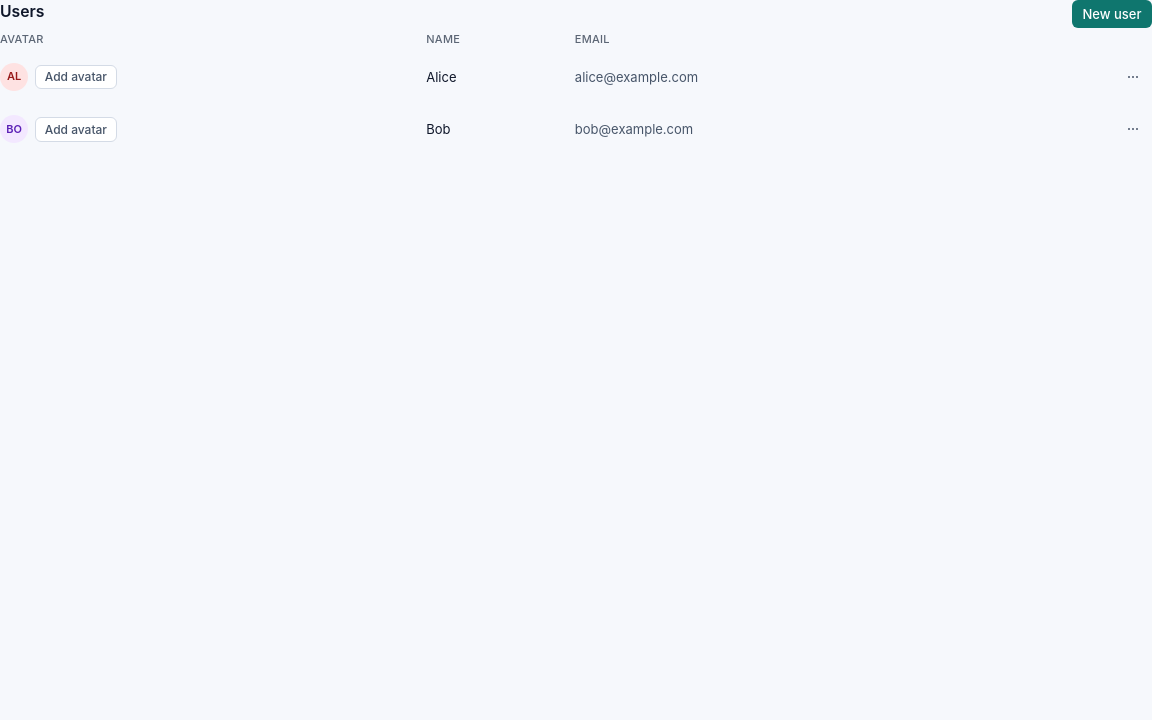
Test: UsersPanel Edit dialog (PRU-47) › renders the server's field:email 400 as the anchored Callout (B2 bug 1)
Click the button named "Actions for user \"Alice\"" at (1133, 77), box [1114,58,1151,96]
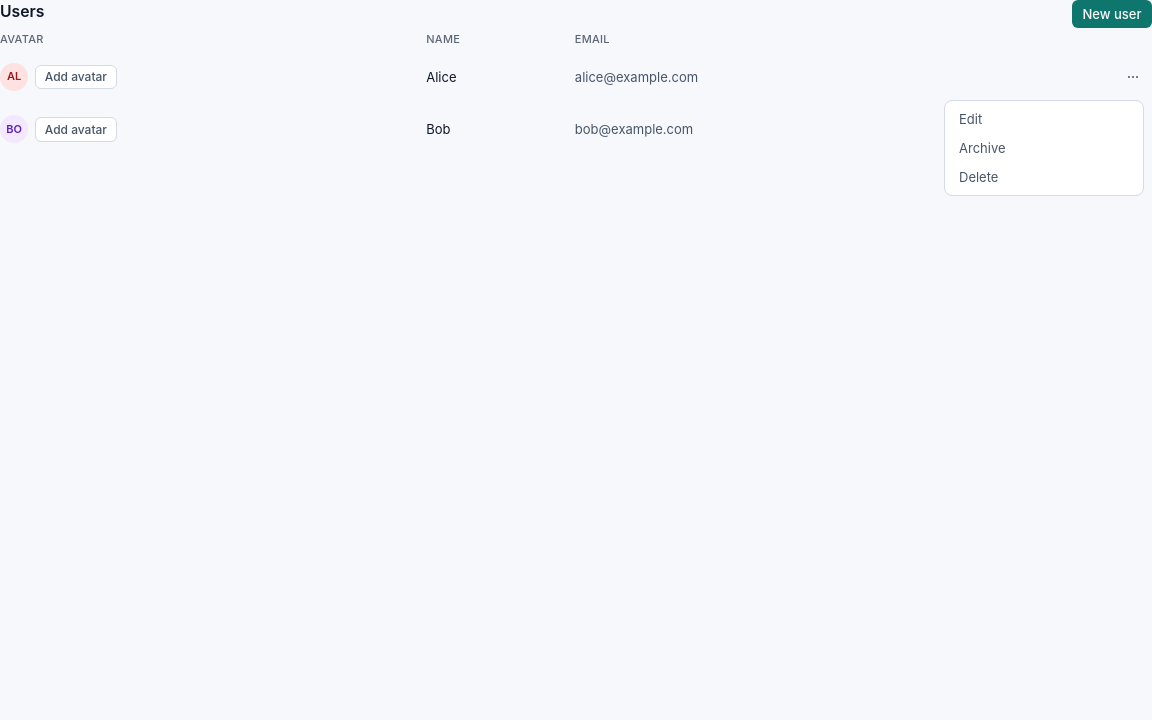
Click the menu item with test id "user-edit-u-alice" at (1044, 119), box [948,105,1140,134]
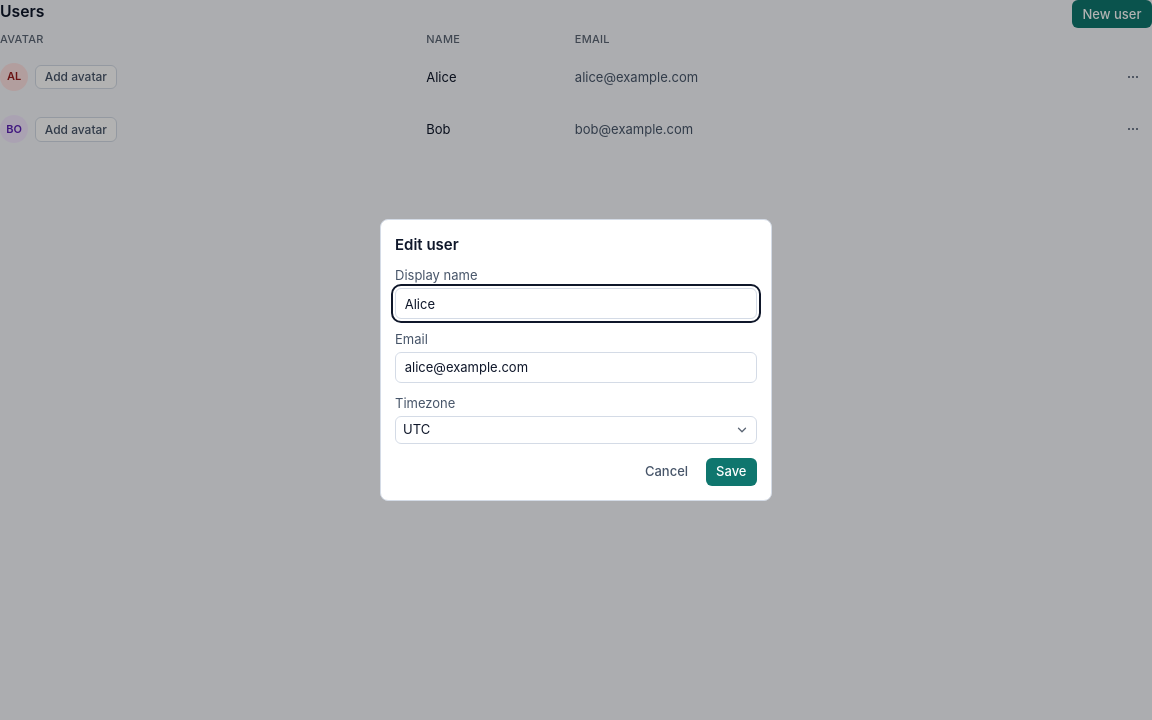
Check: the element with test id "user-edit-dialog-u-alice" is shown, box [395,266,757,486]
Replace the text in the field with test id "user-edit-email-u-alice" with "server@rejects.example" at (576, 368), box [395,352,757,383]
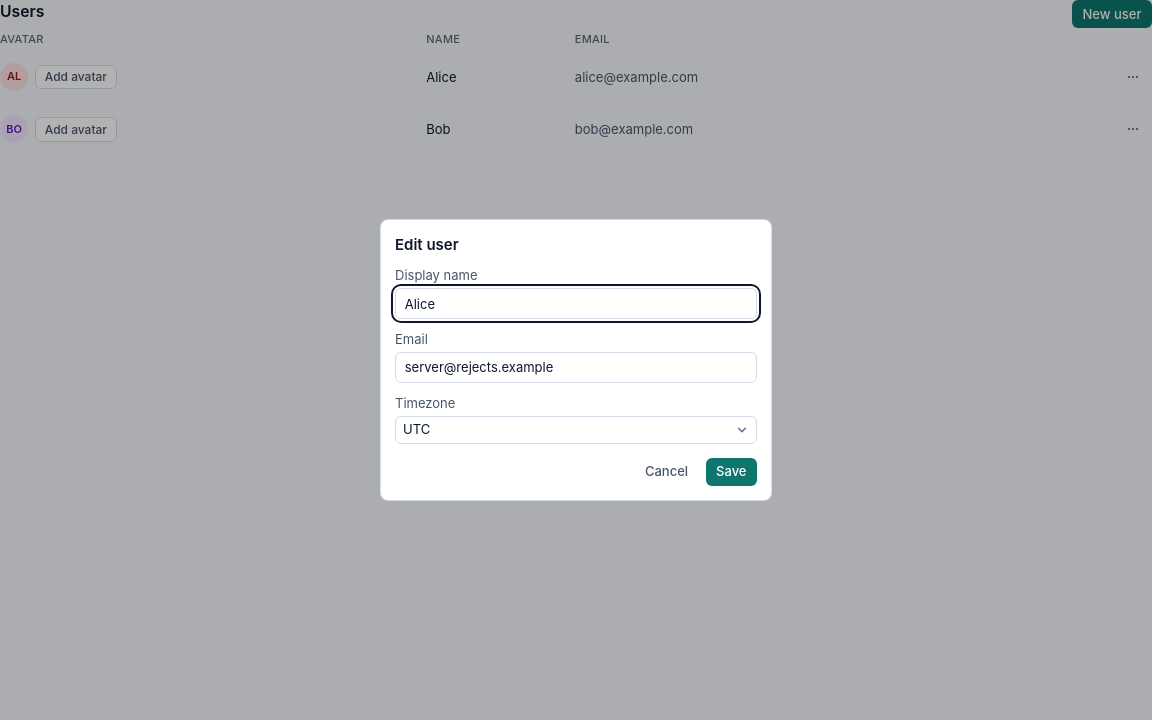
Click the button with test id "user-edit-save-u-alice" at (731, 472), box [706,458,757,486]
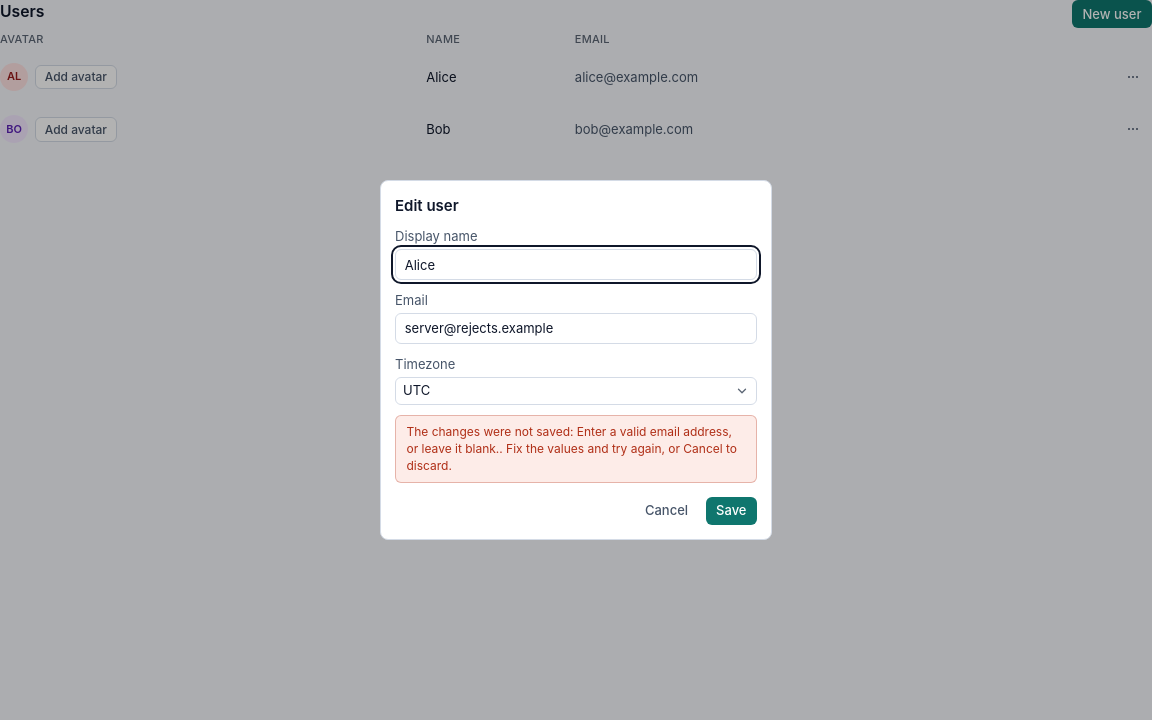
Check: the element with test id "user-edit-dialog-u-alice" is shown, box [395,227,757,525]
Check: the message with test id "user-edit-error-u-alice" shows "Enter a valid email address", box [406,424,732,456]
